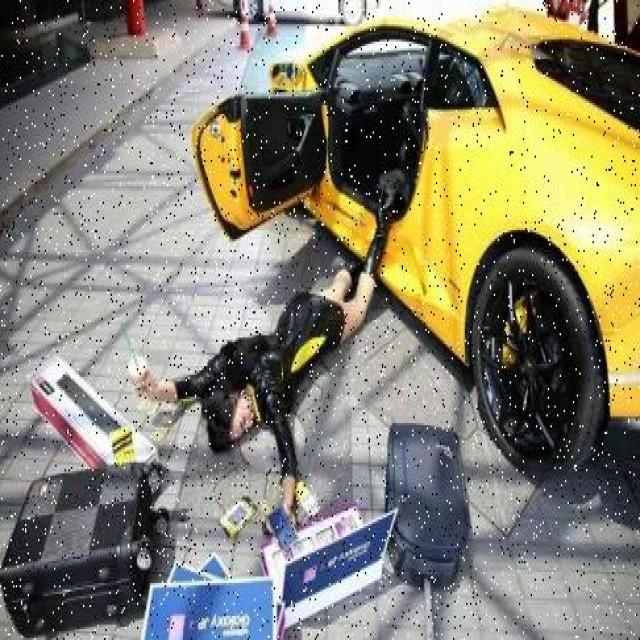fall: (178, 186, 399, 484)
